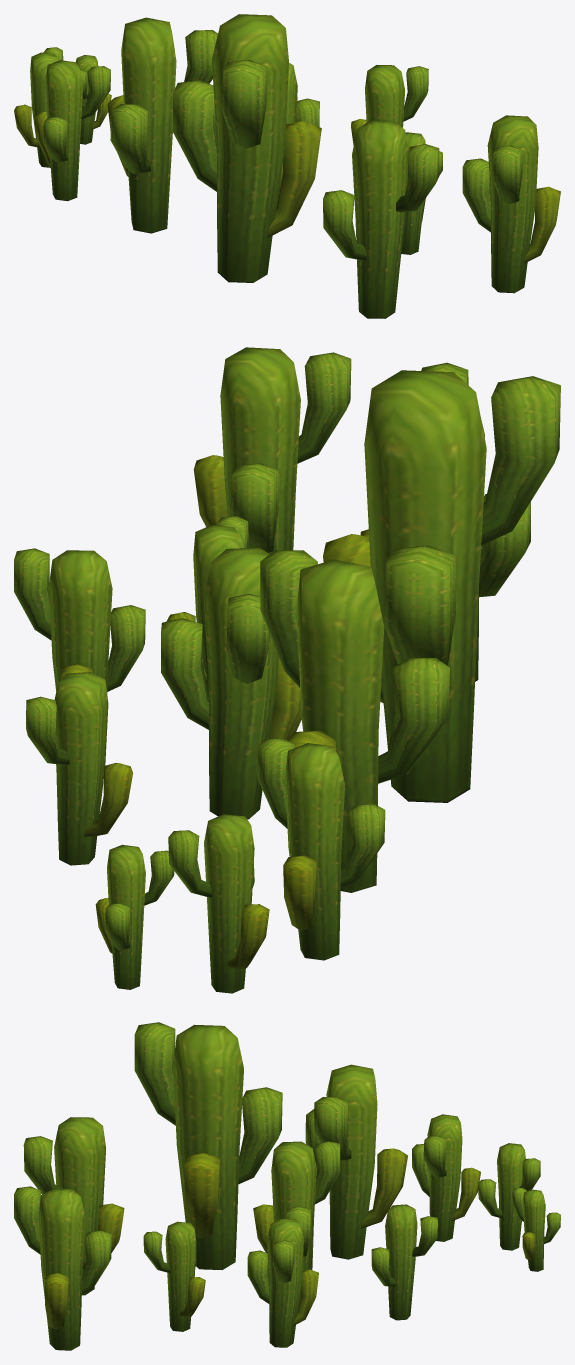
File: Area_08_4.fbx
3 views of the same model, one above another, from view 1: azimuth 30°, elevation 25°; view 2: azimuth 150°, elevation 25°; view 3: azimuth 270°, elevation 25° (orthographic). The views are drawn at different scales.
Visible parts, largest first — view 1: Area_08_4; view 2: Area_08_4; view 3: Area_08_4.
Part boxes in pixels (box(x1,y1,x2,y2)): Area_08_4: box(14, 14, 560, 318); Area_08_4: box(14, 347, 560, 993); Area_08_4: box(14, 1022, 560, 1350).
Bounding box in the file's own units: 1243 × 958 × 2016.
Materials: 1 (1 with a texture image).
